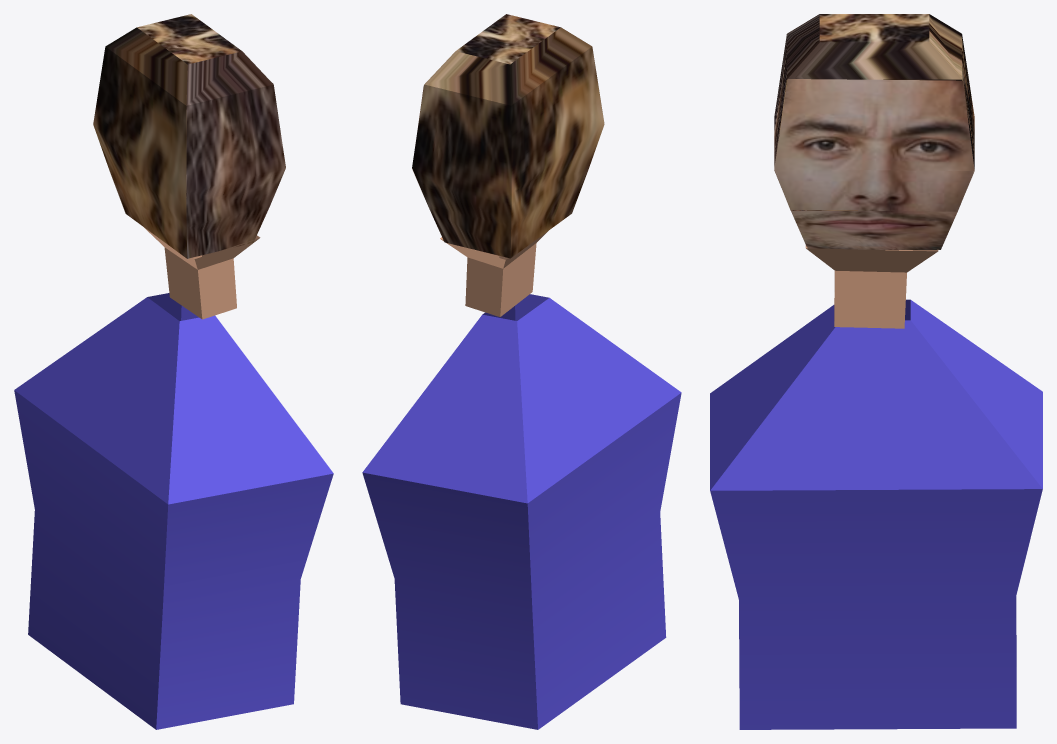
The model's file is patient.fbx.
The picture shows the model from 3 angles, left to right: view 1: azimuth 30°, elevation 25°; view 2: azimuth 150°, elevation 25°; view 3: azimuth 270°, elevation 25°; orthographic projection. The views are drawn at different scales.
Parts seen in each view (by area): view 1: Cube, Cube.003, Cube.004; view 2: Cube, Cube.003, Cube.004; view 3: Cube, Cube.001, Cube.003, Cube.004, Cube.002.
Part boxes in pixels (x1,y1,x2,y2): Cube: (14, 293, 333, 729); Cube.003: (93, 14, 285, 258); Cube.004: (144, 227, 260, 319); Cube: (362, 294, 681, 729); Cube.003: (412, 14, 604, 258); Cube.004: (440, 231, 547, 316); Cube: (710, 299, 1042, 729); Cube.001: (774, 79, 974, 211); Cube.003: (774, 14, 974, 210); Cube.004: (805, 245, 938, 328); Cube.002: (791, 211, 957, 249).
Bounding box in the file's own units: 236 × 856 × 380.
